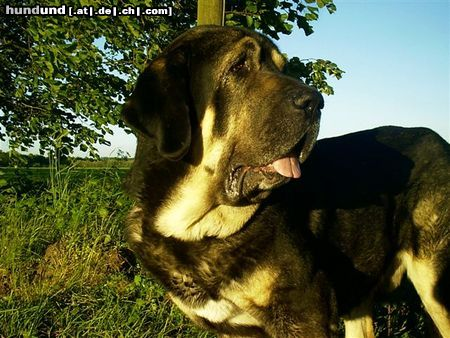mastin_espanol: (120, 23, 450, 338)
